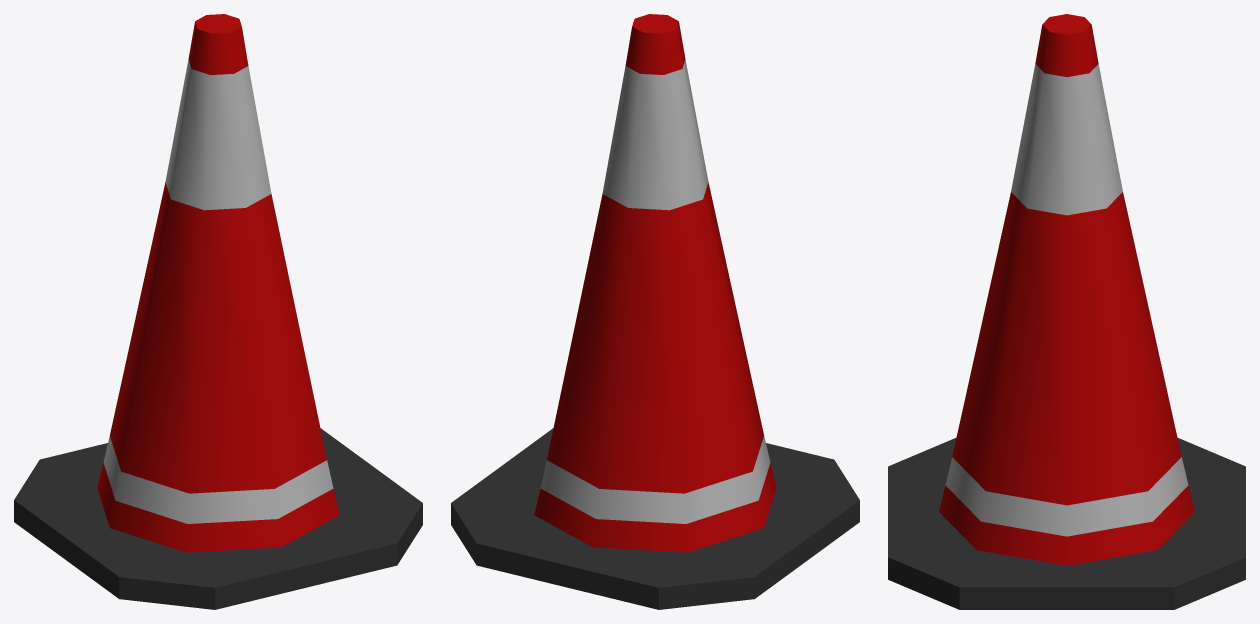
File: zhui_tong.glb
3 renders of one model, left to right at view 1: azimuth 30°, elevation 25°; view 2: azimuth 150°, elevation 25°; view 3: azimuth 270°, elevation 25°, orthographic. The views are drawn at different scales.
Parts seen in each view (by area): view 1: polySurface4, pCube1, polySurface3; view 2: polySurface4, pCube1, polySurface3; view 3: polySurface4, pCube1, polySurface3.
Boxes of the visible parts, x1,y1,x2,y2 form: polySurface4: [97, 14, 339, 552]; pCube1: [14, 428, 422, 609]; polySurface3: [103, 59, 333, 523]; polySurface4: [534, 14, 776, 552]; pCube1: [451, 428, 859, 609]; polySurface3: [540, 59, 770, 523]; polySurface4: [939, 14, 1194, 565]; pCube1: [888, 438, 1245, 609]; polySurface3: [945, 64, 1188, 536].
Bounding box in the file's own units: 0.38 × 0.5975 × 0.38.
